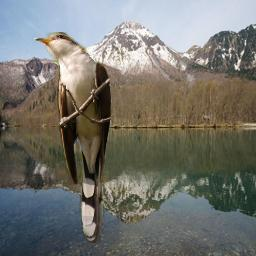Cuckoo: (34, 32, 113, 243)
